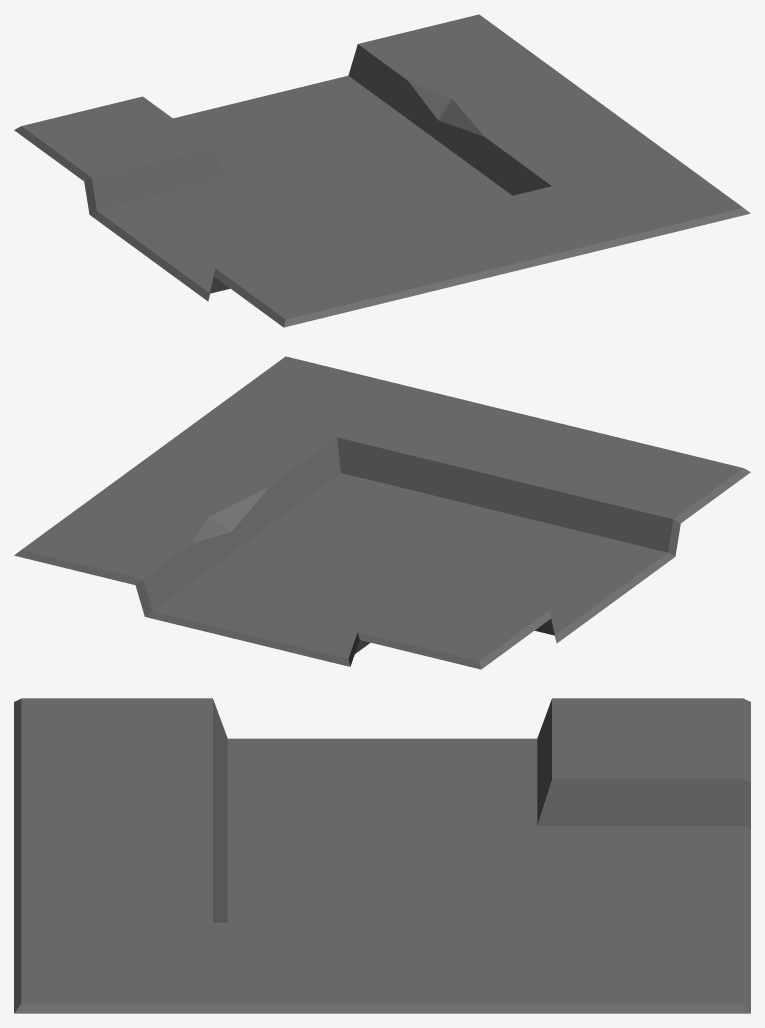
File: SM_Envr_Canal_Floor_06.fbx
The picture shows the model from 3 angles, top to bottom: view 1: azimuth 30°, elevation 25°; view 2: azimuth 150°, elevation 25°; view 3: azimuth 270°, elevation 25°; orthographic projection. The views are drawn at different scales.
Visible parts, largest first — view 1: SM_Envr_Canal_Floor_06; view 2: SM_Envr_Canal_Floor_06; view 3: SM_Envr_Canal_Floor_06.
Boxes of the visible parts, bbox=[...] form: SM_Envr_Canal_Floor_06: bbox=[14, 14, 750, 327]; SM_Envr_Canal_Floor_06: bbox=[14, 356, 750, 669]; SM_Envr_Canal_Floor_06: bbox=[14, 698, 750, 1013].
Bounding box in the file's own units: 500 × 35 × 500.
